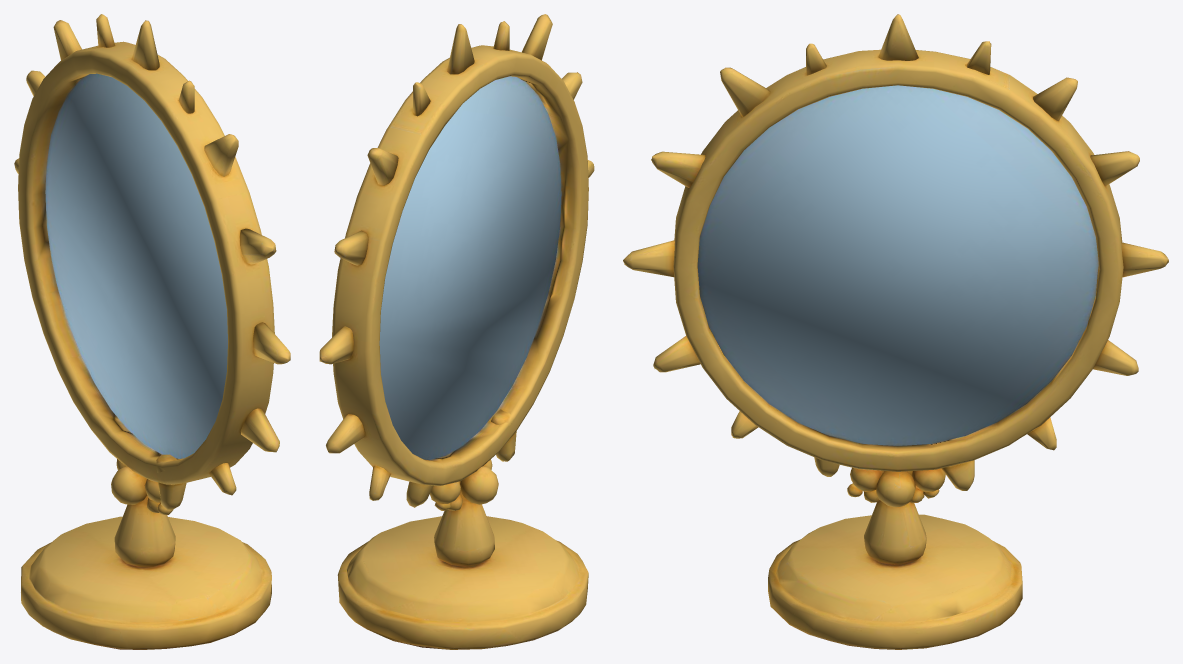
The model's file is model_web.glb.
3 views of the same model, side by side, from view 1: azimuth 30°, elevation 25°; view 2: azimuth 150°, elevation 25°; view 3: azimuth 270°, elevation 25° (orthographic).
Visible parts, largest first — view 1: tripo_node_8db86a7a-31b6-444a-9e4e-ed58a5110e2b; view 2: tripo_node_8db86a7a-31b6-444a-9e4e-ed58a5110e2b; view 3: tripo_node_8db86a7a-31b6-444a-9e4e-ed58a5110e2b.
Boxes of the visible parts, x1=… form: tripo_node_8db86a7a-31b6-444a-9e4e-ed58a5110e2b: x1=14, y1=14, x2=290, y2=649; tripo_node_8db86a7a-31b6-444a-9e4e-ed58a5110e2b: x1=319, y1=14, x2=594, y2=649; tripo_node_8db86a7a-31b6-444a-9e4e-ed58a5110e2b: x1=623, y1=14, x2=1168, y2=649.
Size of the model in its own units: 0.3965 by 0.998 by 0.8457.
Materials: 1 (1 with a texture image).
